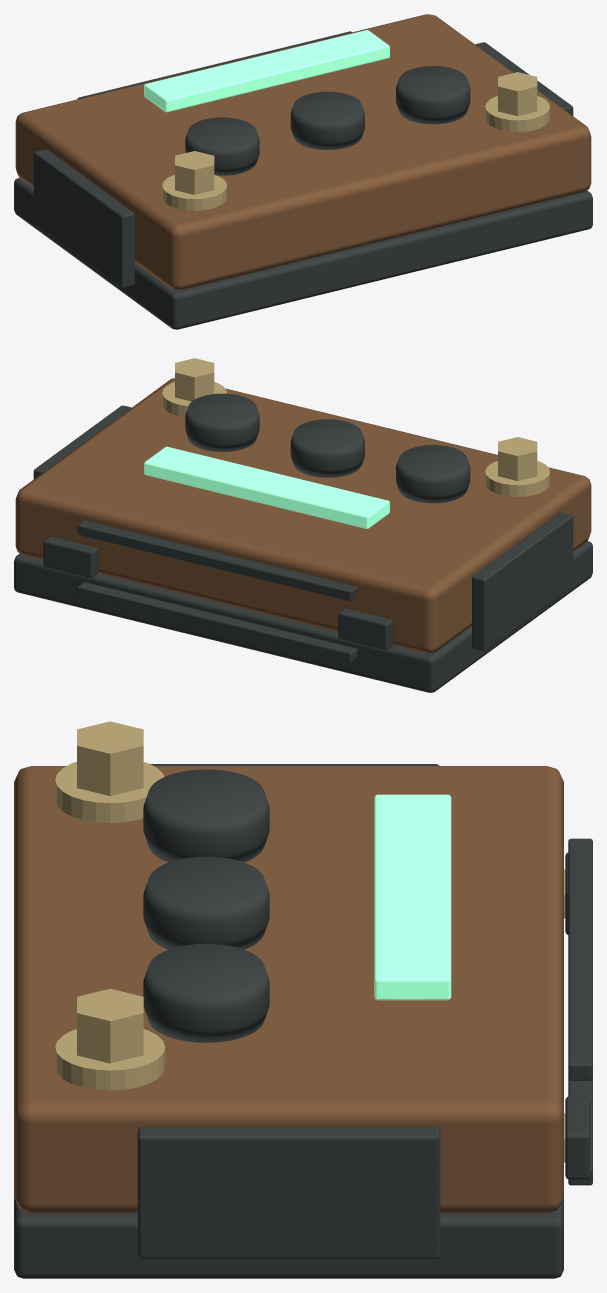
The model's file is city-courthouse-and-records-office-city-courthouse-and-212eecc4__30973.glb.
3 renders of one model, top to bottom at view 1: azimuth 30°, elevation 25°; view 2: azimuth 150°, elevation 25°; view 3: azimuth 270°, elevation 25°, orthographic. The views are drawn at different scales.
Visible parts, largest first — view 1: city-courthouse-and-records-office-microphone-control-box; view 2: city-courthouse-and-records-office-microphone-control-box; view 3: city-courthouse-and-records-office-microphone-control-box.
Boxes of the visible parts, x1=… form: city-courthouse-and-records-office-microphone-control-box: x1=14, y1=14, x2=592, y2=329; city-courthouse-and-records-office-microphone-control-box: x1=14, y1=358, x2=592, y2=692; city-courthouse-and-records-office-microphone-control-box: x1=14, y1=721, x2=592, y2=1278.
Size of the model in its own units: 0.322 by 0.095 by 0.2105.
